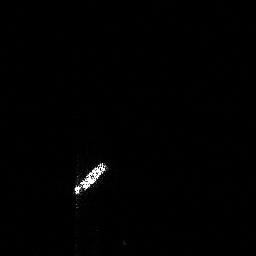ship: (74, 162, 106, 194)
